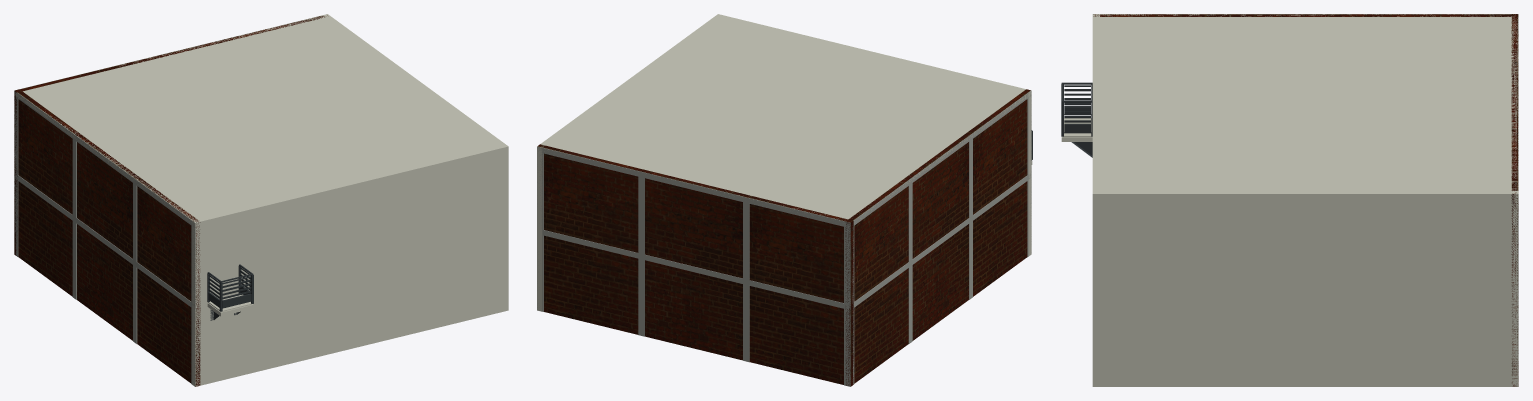
The model's file is building.glb.
3 views of the same model, side by side, from view 1: azimuth 30°, elevation 25°; view 2: azimuth 150°, elevation 25°; view 3: azimuth 270°, elevation 25° (orthographic). The views are drawn at different scales.
Visible parts, largest first — view 1: roof/house:0/roof_slab#0001, house:0/edge0/z0/house:0/edge0/z0/wall_0_0, house:0/edge3/z0/house:0/edge3/z0/wall_0_0, house:0/edge2/z0/house:0/edge2/z0/wall_0_0, house:0/edge3/z0/house:0/edge3/z0/beam_0_0, house:0/edge3/z0/house:0/edge3/z0/beam_1_0, house:0/edge1/z0/house:0/edge1/z0/wall_0_0; view 2: roof/house:0/roof_slab#0001, house:0/edge2/z0/house:0/edge2/z0/wall_0_0, house:0/edge3/z0/house:0/edge3/z0/wall_0_0, house:0/edge1/z0/house:0/edge1/z0/wall_0_0, house:0/edge2/z0/house:0/edge2/z0/beam_1_0, house:0/edge2/z0/house:0/edge2/z0/beam_0_0, house:0/edge0/z0/house:0/edge0/z0/wall_0_0, house:0/edge3/z0/house:0/edge3/z0/beam_0_0, house:0/edge3/z0/house:0/edge3/z0/beam_1_0, house:0/edge2/z0/house:0/edge2/z0/column_2_0, house:0/edge2/z0/house:0/edge2/z0/column_2_1, house:0/edge2/z0/house:0/edge2/z0/column_3_0 (+3 smaller); view 3: house:0/edge1/z0/house:0/edge1/z0/wall_0_0, roof/house:0/roof_slab#0001, house:0/edge0/z0/house:0/edge0/z0/wall_0_0, house:0/edge2/z0/house:0/edge2/z0/wall_0_0, house:0/edge3/z0/house:0/edge3/z0/wall_0_0.
Part boxes in pixels (x1,y1,x2,y2): roof/house:0/roof_slab#0001: [15, 14, 506, 225]; house:0/edge0/z0/house:0/edge0/z0/wall_0_0: [192, 144, 508, 386]; house:0/edge3/z0/house:0/edge3/z0/wall_0_0: [17, 89, 200, 386]; house:0/edge2/z0/house:0/edge2/z0/wall_0_0: [14, 15, 327, 255]; house:0/edge3/z0/house:0/edge3/z0/beam_0_0: [14, 173, 195, 309]; house:0/edge3/z0/house:0/edge3/z0/beam_1_0: [14, 92, 195, 227]; house:0/edge1/z0/house:0/edge1/z0/wall_0_0: [323, 14, 508, 311]; roof/house:0/roof_slab#0001: [540, 14, 1031, 223]; house:0/edge2/z0/house:0/edge2/z0/wall_0_0: [538, 144, 853, 386]; house:0/edge3/z0/house:0/edge3/z0/wall_0_0: [845, 89, 1030, 385]; house:0/edge1/z0/house:0/edge1/z0/wall_0_0: [537, 15, 722, 311]; house:0/edge2/z0/house:0/edge2/z0/beam_1_0: [538, 147, 850, 228]; house:0/edge2/z0/house:0/edge2/z0/beam_0_0: [542, 230, 850, 309]; house:0/edge0/z0/house:0/edge0/z0/wall_0_0: [717, 14, 1031, 256]; house:0/edge3/z0/house:0/edge3/z0/beam_0_0: [850, 172, 1031, 309]; house:0/edge3/z0/house:0/edge3/z0/beam_1_0: [850, 90, 1031, 227]; house:0/edge2/z0/house:0/edge2/z0/column_2_0: [638, 176, 644, 254]; house:0/edge2/z0/house:0/edge2/z0/column_2_1: [638, 258, 644, 336]; house:0/edge2/z0/house:0/edge2/z0/column_3_0: [743, 202, 749, 280]; house:0/edge1/z0/house:0/edge1/z0/wall_0_0: [1092, 191, 1518, 386]; roof/house:0/roof_slab#0001: [1092, 14, 1518, 198]; house:0/edge0/z0/house:0/edge0/z0/wall_0_0: [1092, 14, 1099, 386]; house:0/edge2/z0/house:0/edge2/z0/wall_0_0: [1511, 14, 1518, 386]; house:0/edge3/z0/house:0/edge3/z0/wall_0_0: [1093, 14, 1517, 16].
Bounding box in the file's own units: 12 × 6 × 12.89.
Materials: 4 (1 with a texture image).
